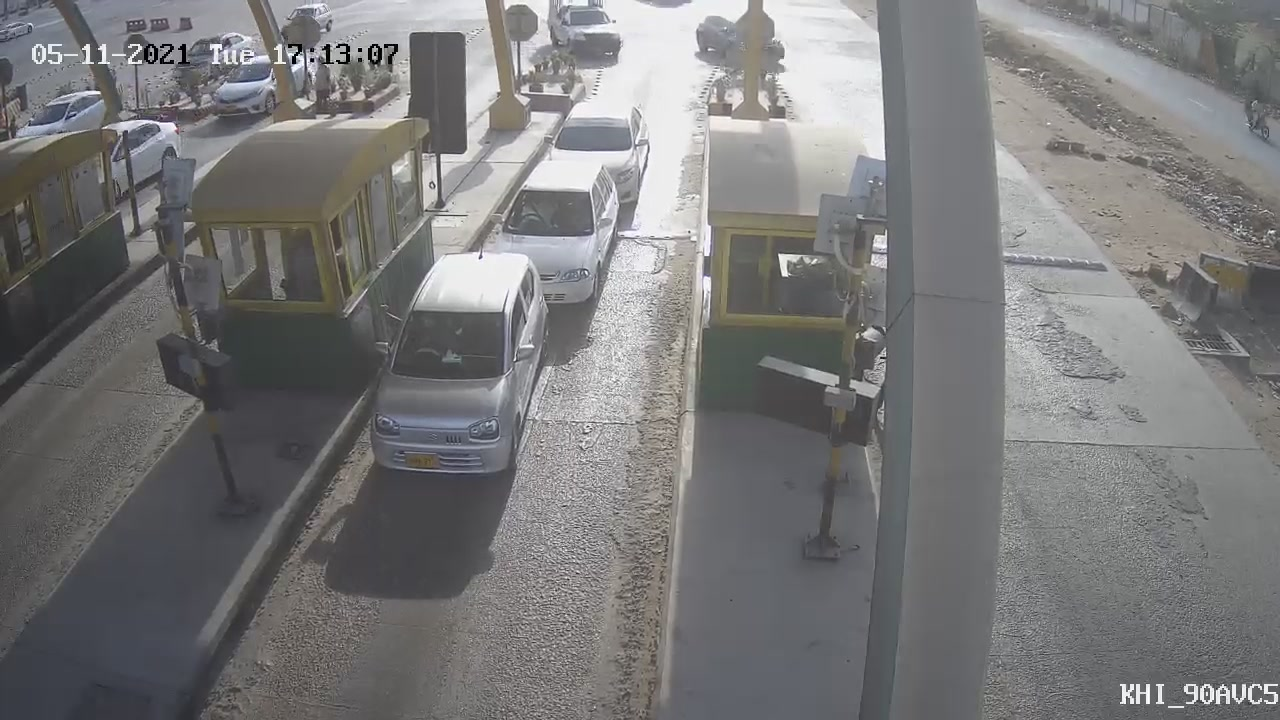F1: (355, 233, 566, 494), (473, 149, 638, 330)
